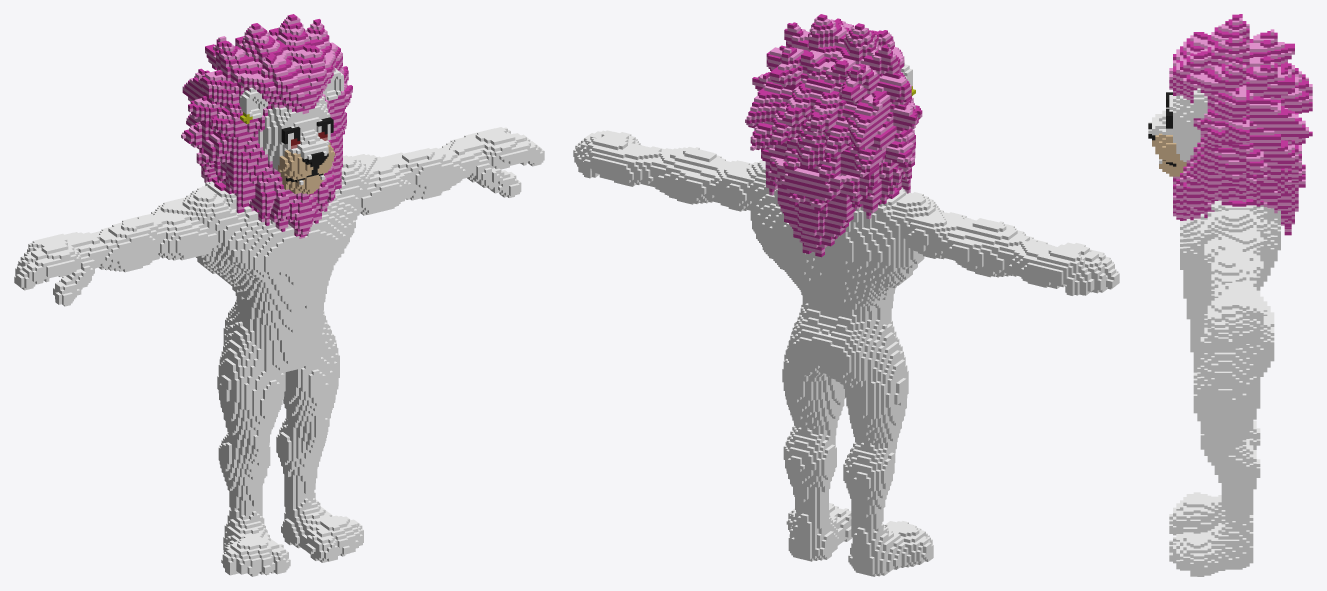
File: 125-CE0nhUjO.glb
3 views of the same model, side by side, from view 1: azimuth 30°, elevation 25°; view 2: azimuth 150°, elevation 25°; view 3: azimuth 270°, elevation 25° (orthographic). The views are drawn at different scales.
Visible parts, largest first — view 1: standard; view 2: standard; view 3: standard.
Part boxes in pixels (x1,y1,x2,y2): standard: (14, 14, 544, 576); standard: (573, 14, 1119, 576); standard: (1148, 14, 1312, 576).
Size of the model in its own units: 17.2 by 16.5 by 4.7.
5 materials, 5 textured.
